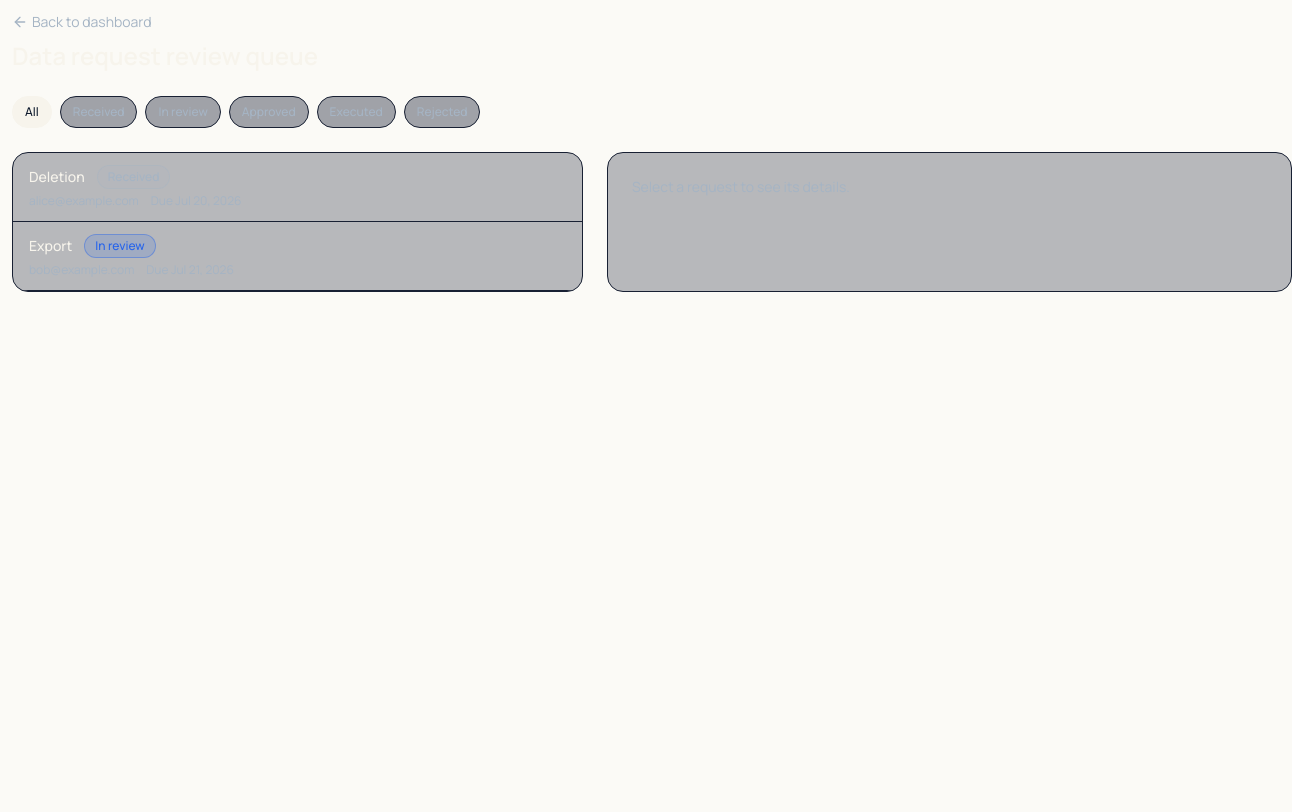
Test case: AdminDataRequestsPage › shows a manual-execution state on 409 EXECUTION_NOT_AUTOMATED
Step 1. Click the button "Deletion Received alice@example.com Due Jul 20, 2026" → [57, 176], box [13, 153, 582, 222]
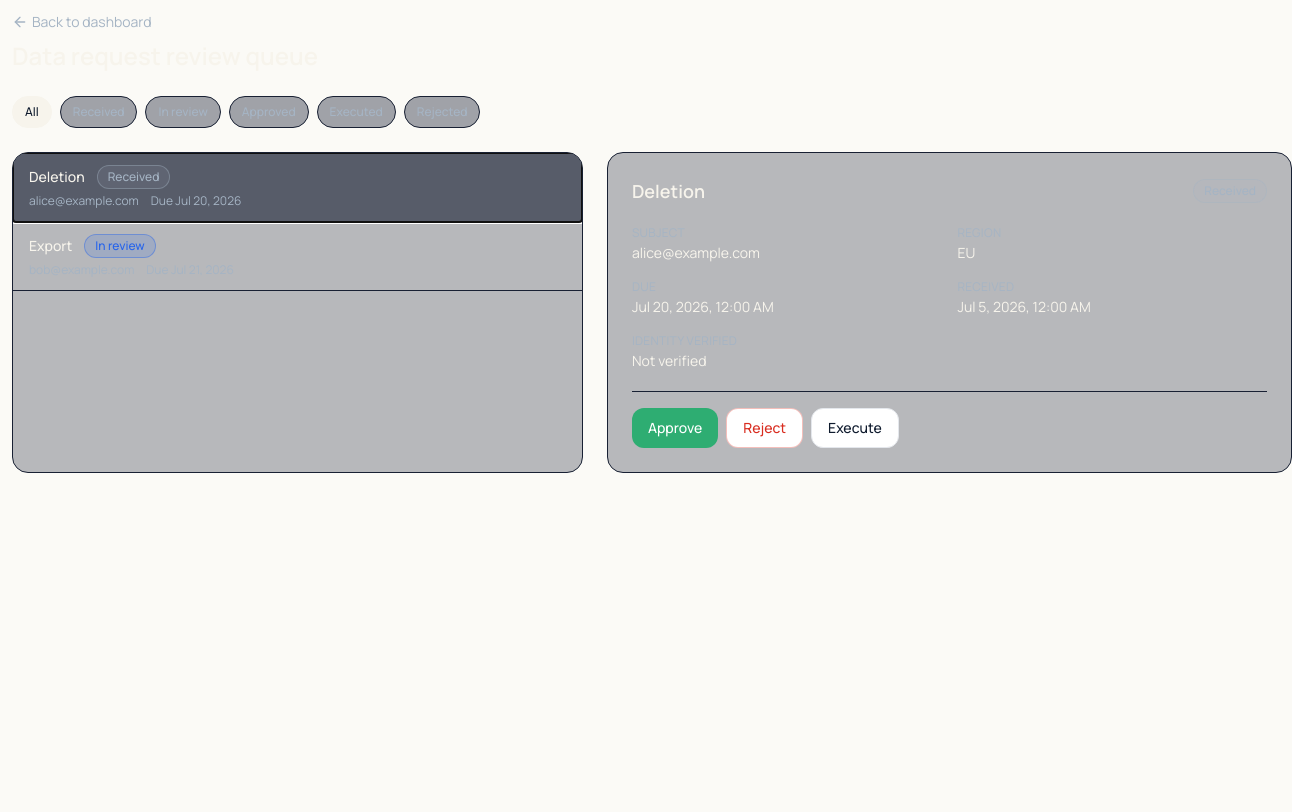
Step 2. Click the button "Execute" → [855, 428], box [811, 408, 899, 448]
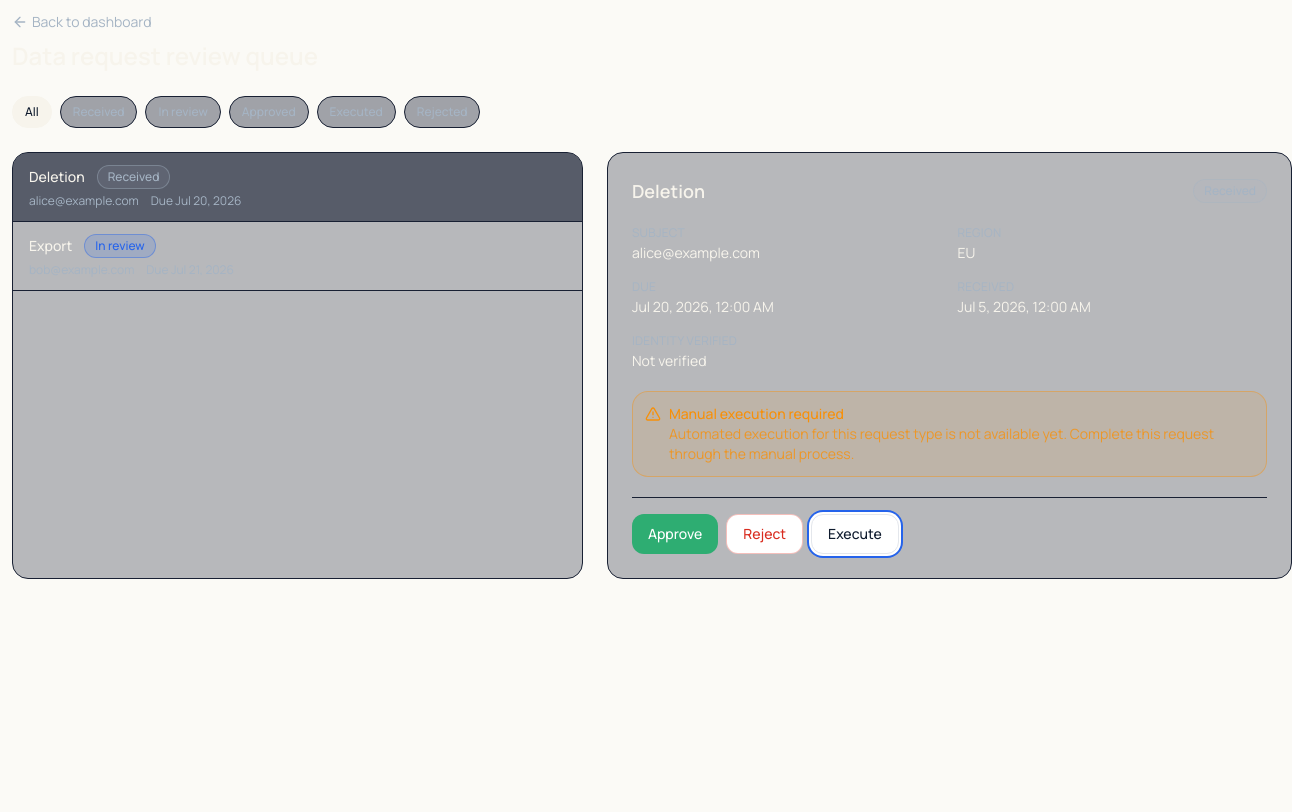
expect the text "Manual execution required" is shown: met, box [669, 404, 844, 423]
expect the text "Automated execution" is shown: met, box [669, 424, 1214, 463]
